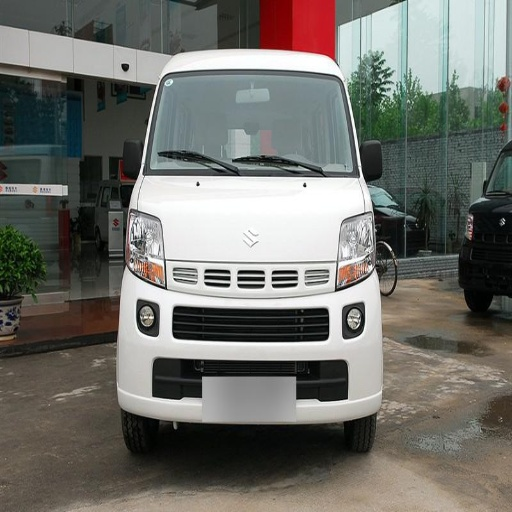front_bumper: (124, 259, 379, 424)
front_right_light: (126, 211, 163, 286)
hood: (135, 175, 366, 261)
